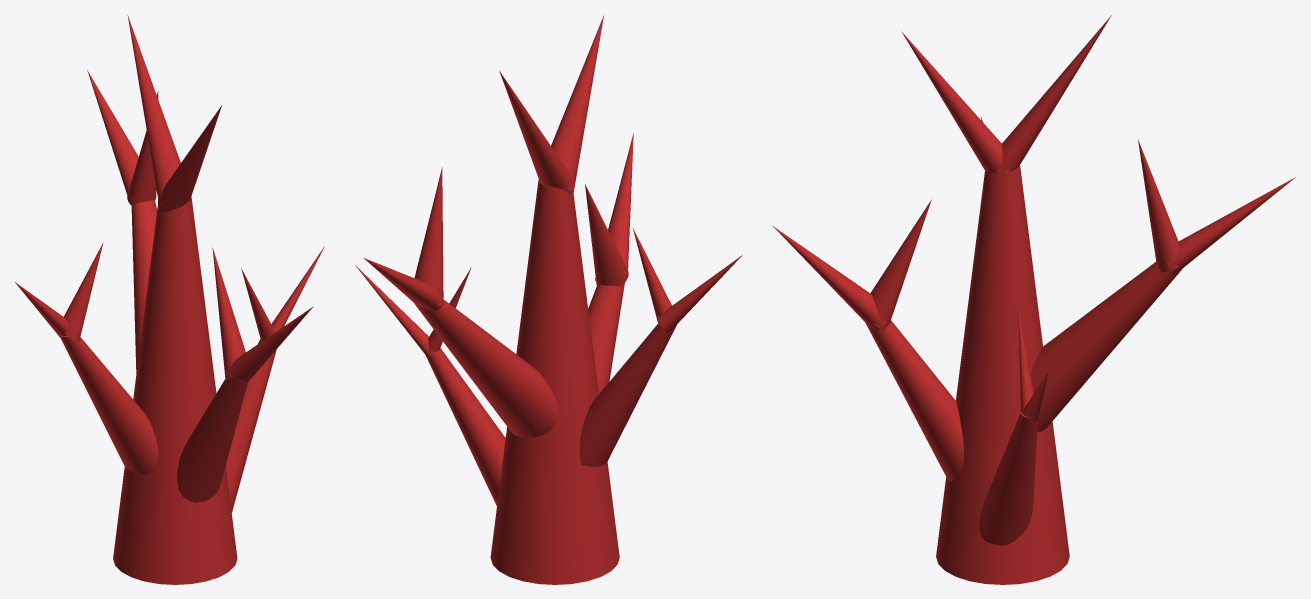
Rendered from AngerLv2.glb.
3 renders of one model, left to right at view 1: azimuth 30°, elevation 25°; view 2: azimuth 150°, elevation 25°; view 3: azimuth 270°, elevation 25°, orthographic. The views are drawn at different scales.
Parts seen in each view (by area): view 1: Batang021, Cone345, Cone342, Cone339, Cone353, Cone337, Cone338, Cone340, Cone344, Cone343, Cone341, Cone347 (+3 smaller); view 2: Batang021, Cone337, Cone345, Cone353, Cone338, Cone342, Cone339, Cone344, Cone341, Cone343, Cone340, Cone346 (+2 smaller); view 3: Batang021, Cone337, Cone342, Cone353, Cone339, Cone338, Cone344, Cone343, Cone340, Cone341, Cone352.
Boxes of the visible parts, box(x1,y1,x2,y2) form: Batang021: box(113, 196, 237, 584); Cone345: box(59, 335, 157, 474); Cone342: box(177, 379, 247, 502); Cone339: box(127, 15, 180, 206); Cone353: box(225, 339, 276, 512); Cone337: box(131, 200, 157, 373); Cone338: box(158, 105, 221, 212); Cone340: box(87, 70, 138, 201); Cone344: box(212, 248, 245, 380); Cone343: box(225, 306, 313, 383); Cone341: box(127, 91, 158, 206); Cone347: box(64, 243, 103, 341); Batang021: box(490, 179, 619, 584); Cone337: box(413, 300, 558, 438); Cone345: box(579, 324, 676, 466); Cone353: box(425, 348, 505, 505); Cone338: box(551, 14, 604, 193); Cone342: box(588, 283, 624, 393); Cone339: box(499, 70, 574, 194); Cone344: box(585, 184, 628, 286); Cone341: box(414, 167, 443, 305); Cone343: box(595, 133, 633, 280); Cone340: box(364, 258, 443, 310); Cone346: box(657, 255, 742, 332); Batang021: box(936, 165, 1069, 584); Cone337: box(1030, 262, 1182, 431); Cone342: box(865, 320, 963, 480); Cone353: box(979, 411, 1037, 545); Cone339: box(996, 15, 1111, 175); Cone338: box(901, 31, 1009, 176); Cone344: box(870, 199, 931, 330); Cone343: box(773, 226, 885, 330); Cone340: box(1167, 177, 1295, 273); Cone341: box(1138, 139, 1179, 272); Cone352: box(1018, 308, 1033, 412).
Bounding box in the file's own units: 0.6572 × 0.9262 × 0.8087.
